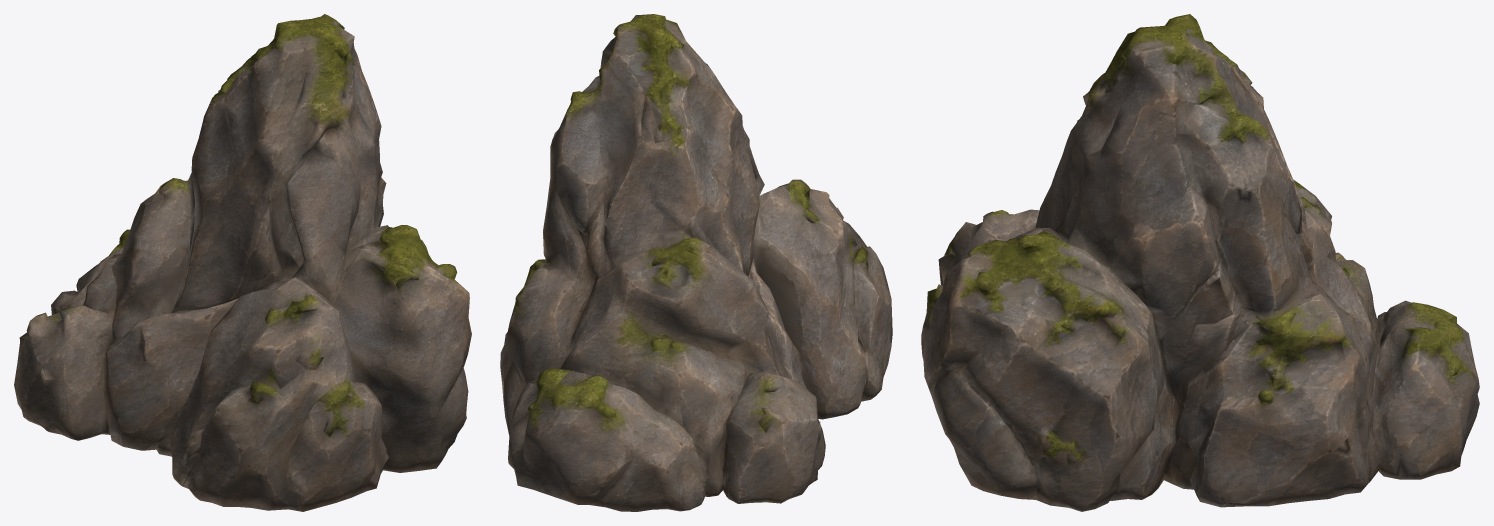
Rendered from SM_Env_RockOutcrop.fbx.
3 renders of one model, left to right at view 1: azimuth 30°, elevation 25°; view 2: azimuth 150°, elevation 25°; view 3: azimuth 270°, elevation 25°, orthographic. The views are drawn at different scales.
Visible parts, largest first — view 1: SM_Env_RockOutcrop; view 2: SM_Env_RockOutcrop; view 3: SM_Env_RockOutcrop.
Boxes of the visible parts, x1=… form: SM_Env_RockOutcrop: x1=14, y1=14, x2=471, y2=511; SM_Env_RockOutcrop: x1=500, y1=14, x2=892, y2=511; SM_Env_RockOutcrop: x1=921, y1=14, x2=1479, y2=511.
Bounding box in the file's own units: 61.33 × 80.56 × 70.
1 material, 1 textured.
